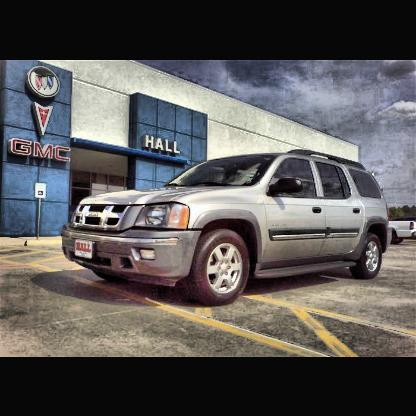Isuzu Ascender SUV 2008: (62, 149, 393, 305)
